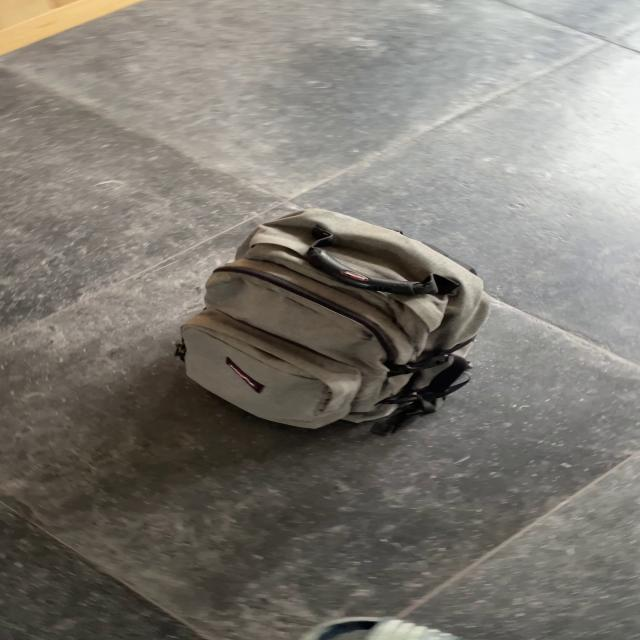backpack: (169, 204, 493, 434)
